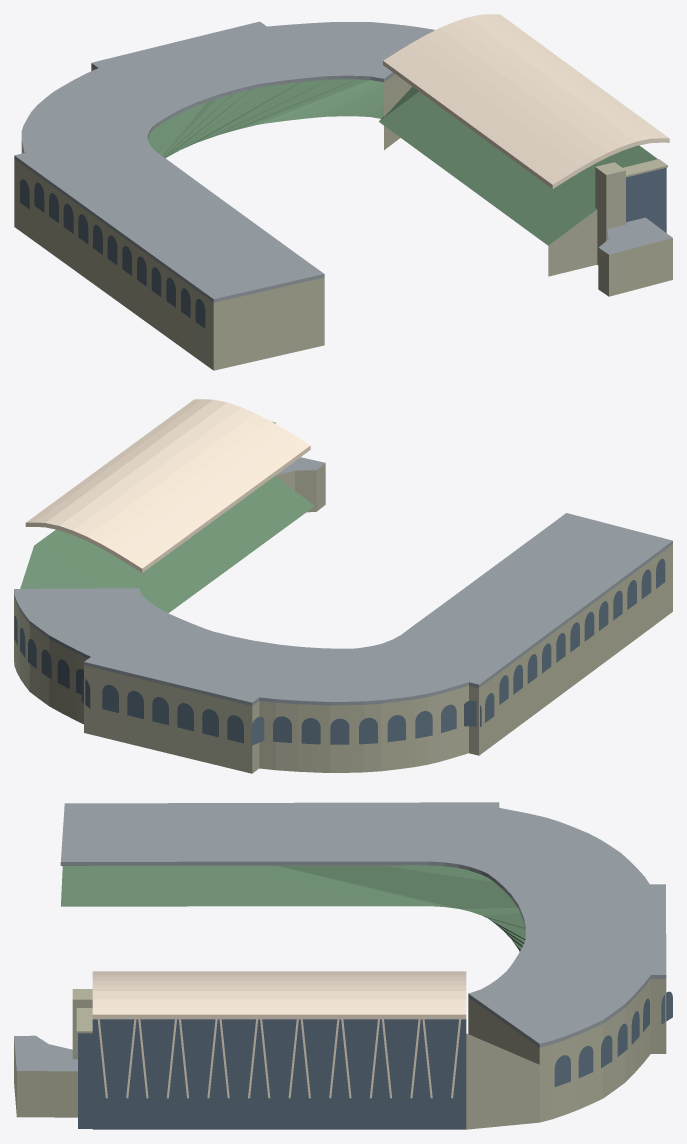
The model's file is pdx-providence-park.glb.
3 views of the same model, one above another, from view 1: azimuth 30°, elevation 25°; view 2: azimuth 150°, elevation 25°; view 3: azimuth 270°, elevation 25° (orthographic). The views are drawn at different scales.
Visible parts, largest first — view 1: Providence Park; view 2: Providence Park; view 3: Providence Park.
Boxes of the visible parts, bbox=[...] form: Providence Park: bbox=[14, 14, 672, 370]; Providence Park: bbox=[14, 399, 672, 773]; Providence Park: bbox=[14, 802, 672, 1129].
Bounding box in the file's own units: 169 × 38.92 × 186.
